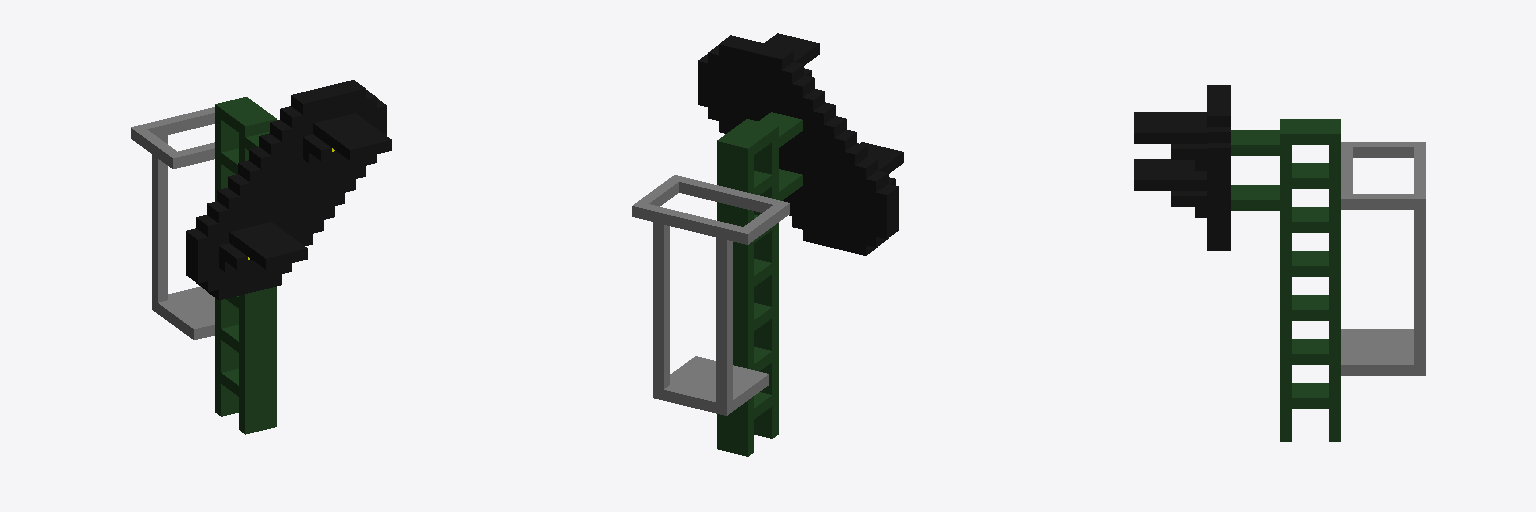
The picture shows the model from 3 angles: view 1: azimuth 30°, elevation 25°; view 2: azimuth 150°, elevation 25°; view 3: azimuth 270°, elevation 25°; orthographic projection.
Parts seen in each view (by area): view 1: all; view 2: all; view 3: all.
Boxes of the visible parts, x1,y1,x2,y2 form: all: [131, 80, 391, 434]; all: [632, 33, 903, 456]; all: [1134, 85, 1425, 441].
Bounding box in the file's own units: 1.8 × 3.2 × 2.4.
Materials: 1 (1 with a texture image).